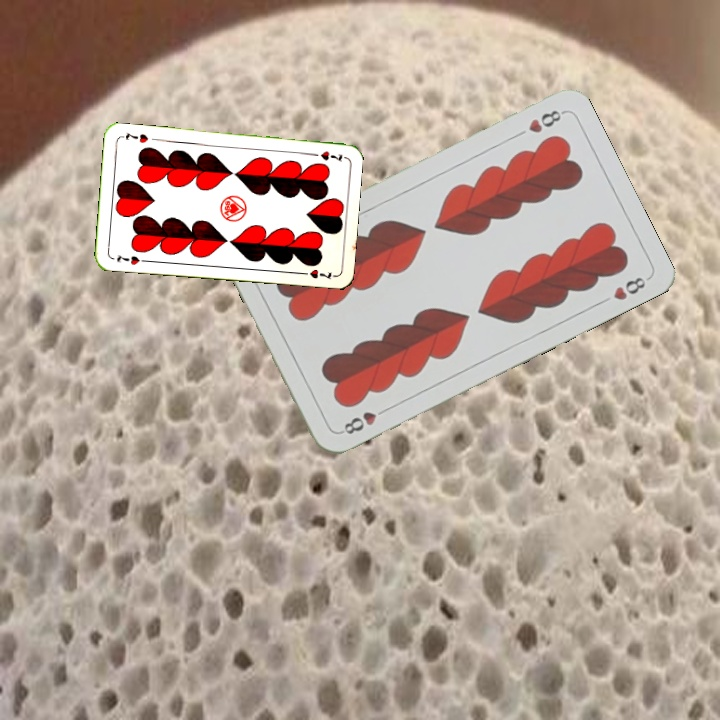H7: (306, 147, 345, 163), (113, 250, 149, 267)
H8: (336, 403, 391, 437), (524, 106, 566, 136)
